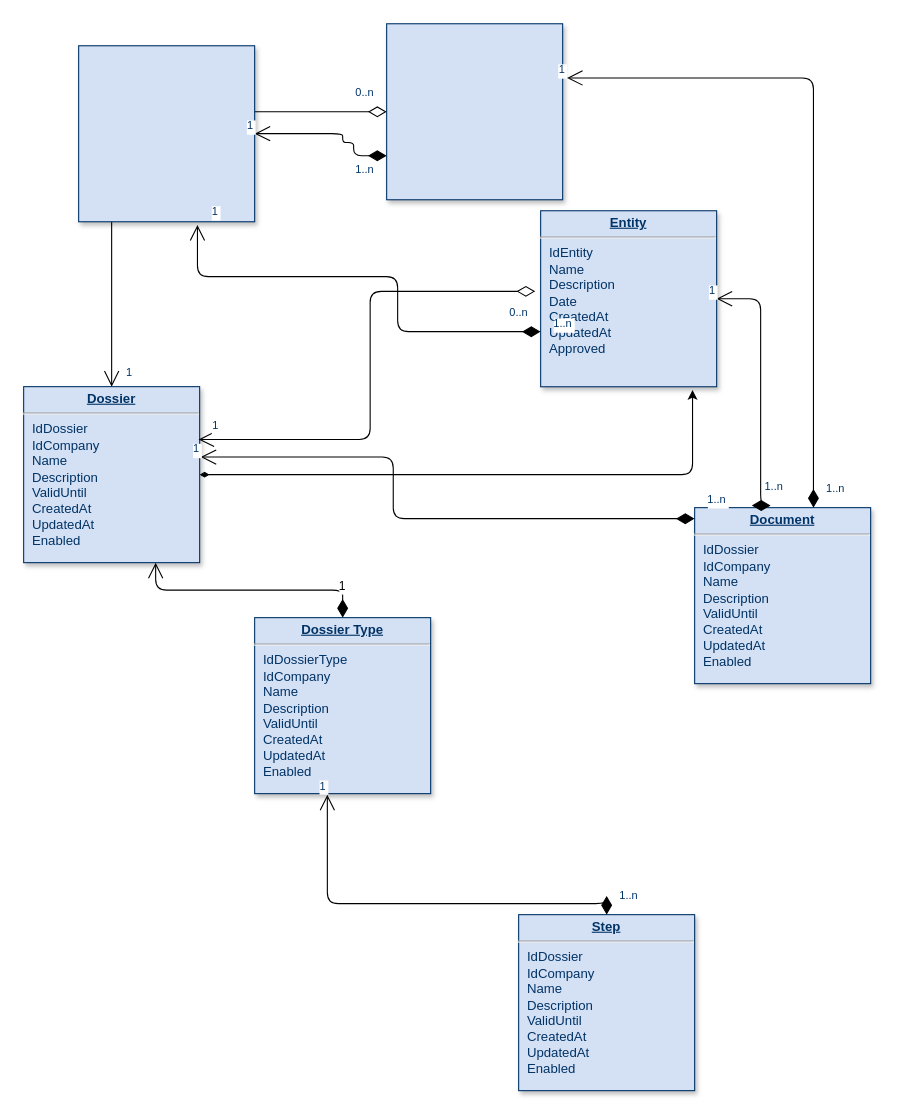
This 897x1118 diagram has some shape labels left out. The shapes that lost their labels are listed below. From the top down, each one's centre as x and y in pixels, then its label:
point 475,112: Person IdPerson Name Description Date CreatedAt UpdatedAt Approved
point 167,134: Shareholder IdPerson Percentage IdEntity Date CreatedAt UpdatedAt Approved
